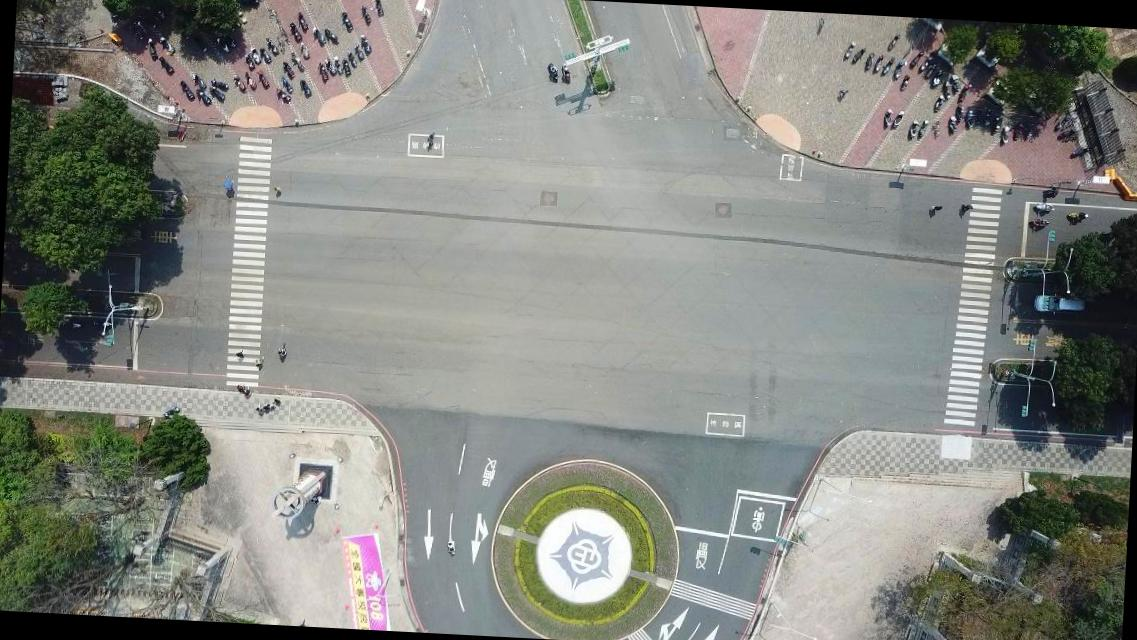vehicle: (1032, 290, 1085, 314)
